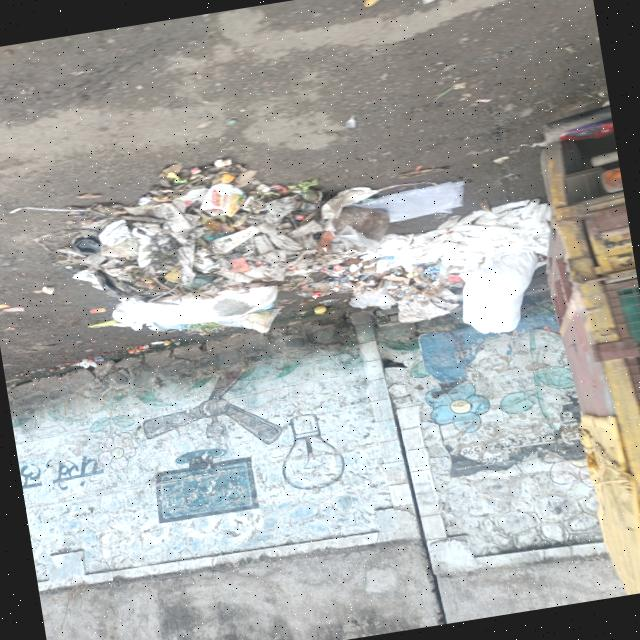garbage: (61, 123, 542, 393)
